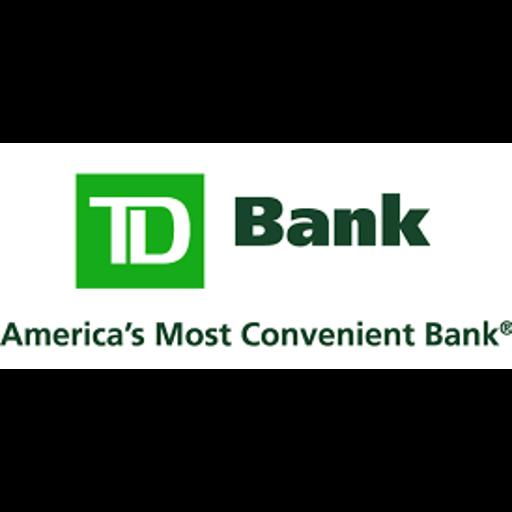TD Bank Group: (0, 143, 512, 369)
